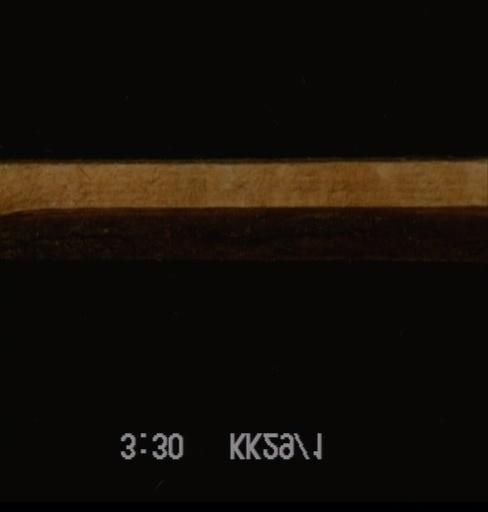wave: (0, 199, 486, 258)
